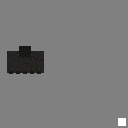supply_truck: (7, 51, 44, 73)
